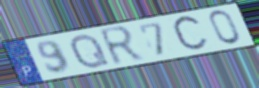0: (208, 9, 244, 47)
7: (137, 21, 167, 58)
9: (36, 39, 71, 75)
C: (170, 13, 211, 54)
Q: (68, 32, 112, 70)
R: (96, 24, 147, 68)
